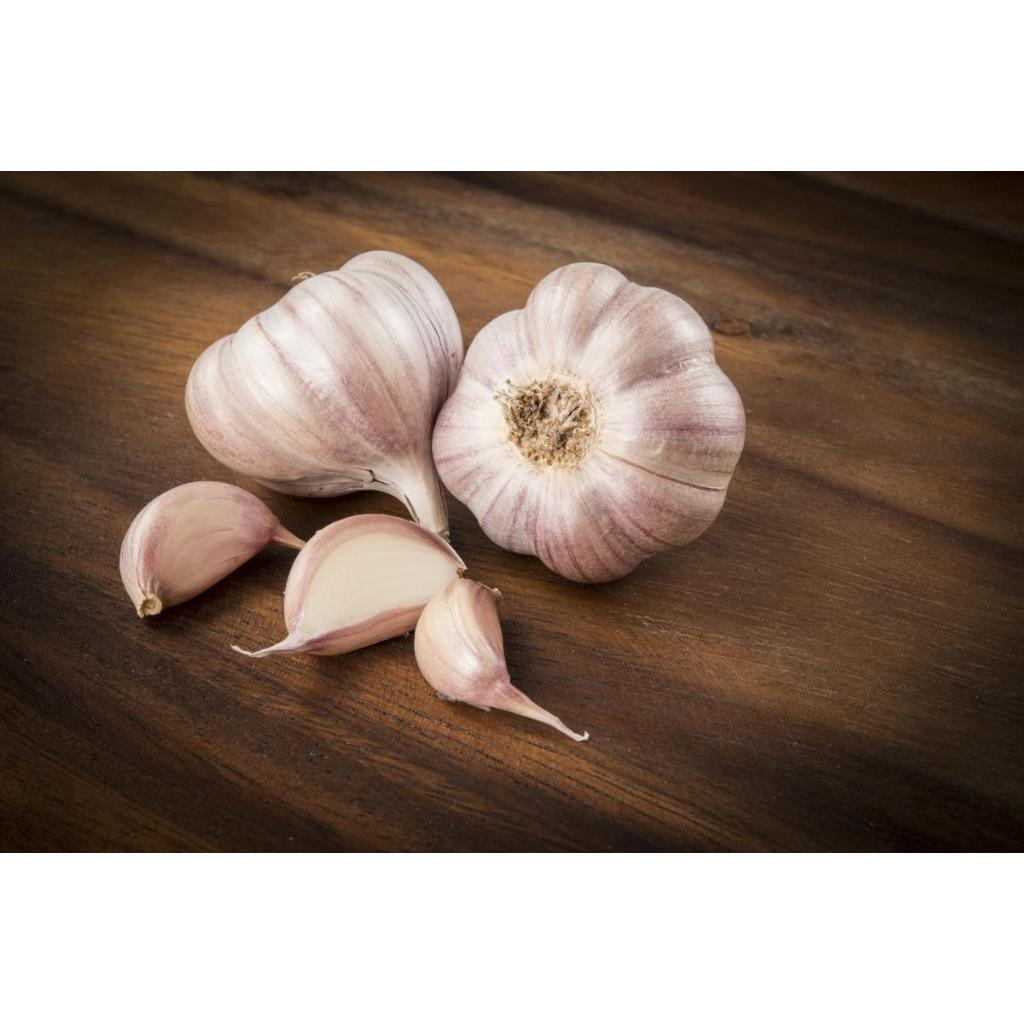garlic: (432, 262, 743, 581), (184, 250, 462, 537), (232, 514, 464, 657), (414, 578, 587, 740), (119, 481, 304, 616)
